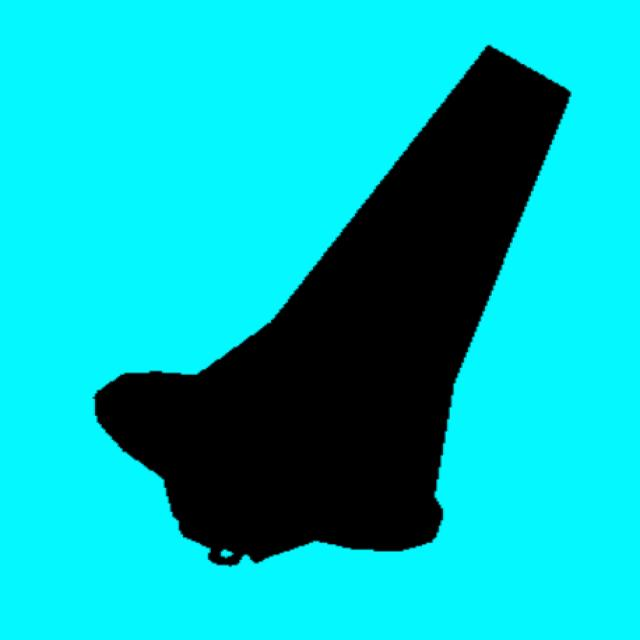BlackBuoy: (95, 48, 569, 564)
